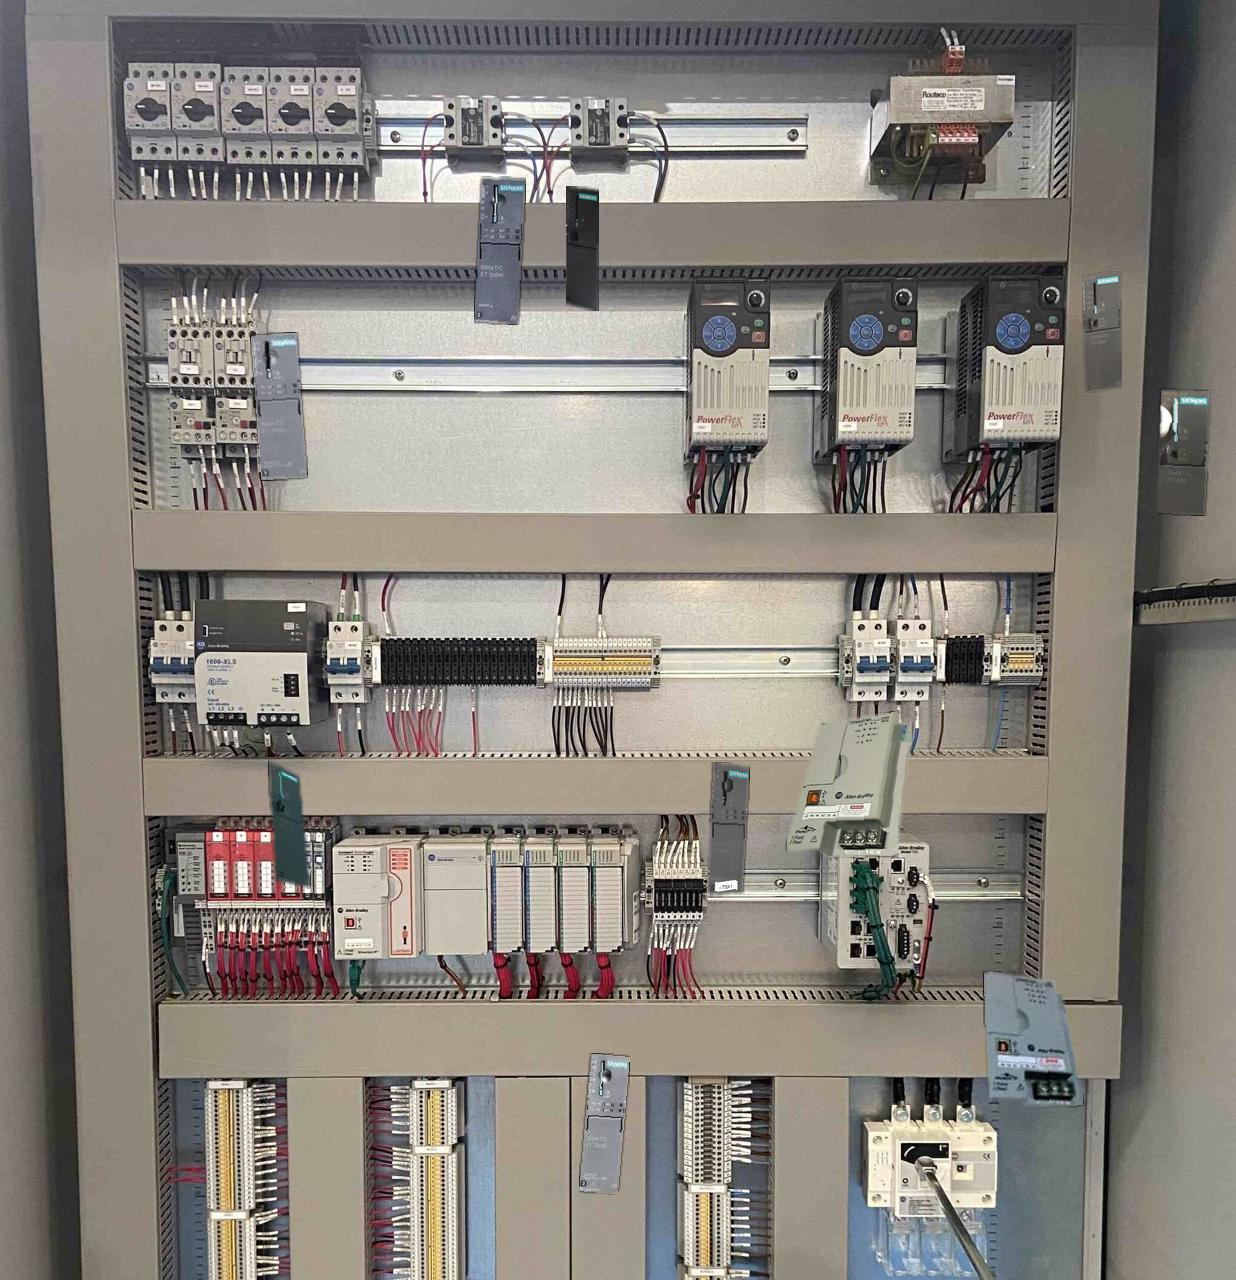AllenBradley: (787, 712, 910, 856), (984, 971, 1082, 1105)
Siemens: (1157, 390, 1207, 514), (268, 761, 308, 886), (1082, 271, 1121, 392), (565, 186, 597, 310)
